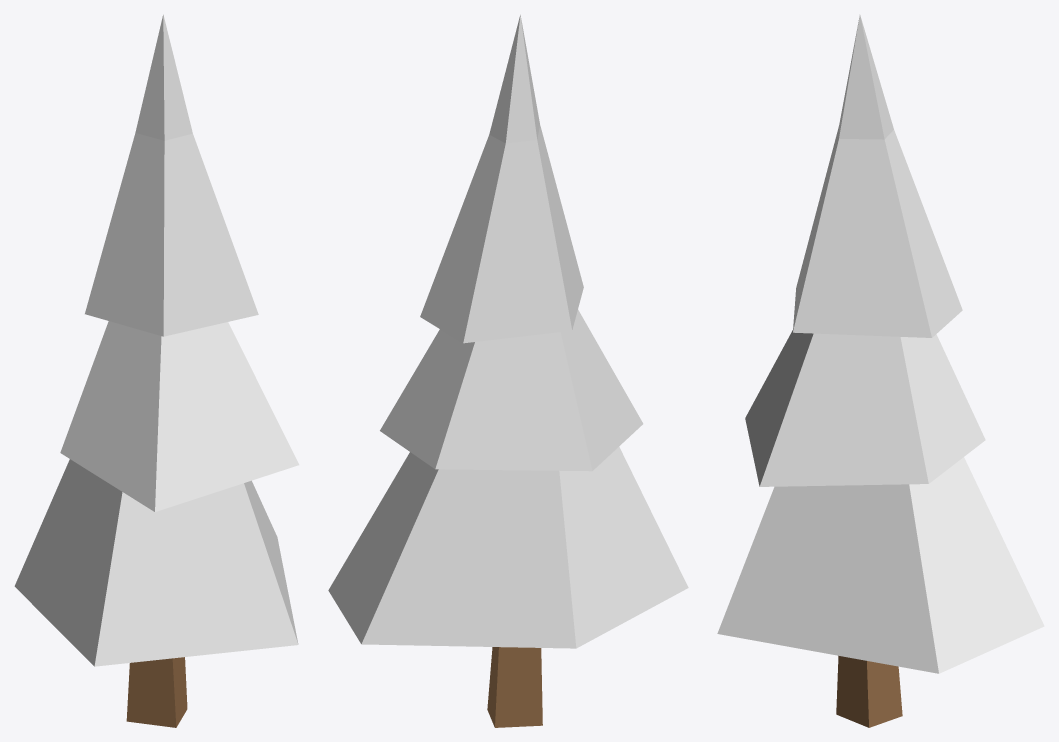
File: Fir_Tree_OneSided_s_Snow_02_LOD.fbx
3 views of the same model, side by side, from view 1: azimuth 30°, elevation 25°; view 2: azimuth 150°, elevation 25°; view 3: azimuth 270°, elevation 25° (orthographic).
Parts seen in each view (by area): view 1: Fir_Tree_OneSided_s_Snow_02_LOD0; view 2: Fir_Tree_OneSided_s_Snow_02_LOD0; view 3: Fir_Tree_OneSided_s_Snow_02_LOD0.
Part boxes in pixels (box(x1,y1,x2,y2)): Fir_Tree_OneSided_s_Snow_02_LOD0: box(14, 14, 299, 727); Fir_Tree_OneSided_s_Snow_02_LOD0: box(328, 14, 688, 727); Fir_Tree_OneSided_s_Snow_02_LOD0: box(717, 15, 1044, 727).
Size of what is drawn, in the model's own units: 104 by 256 by 108.
